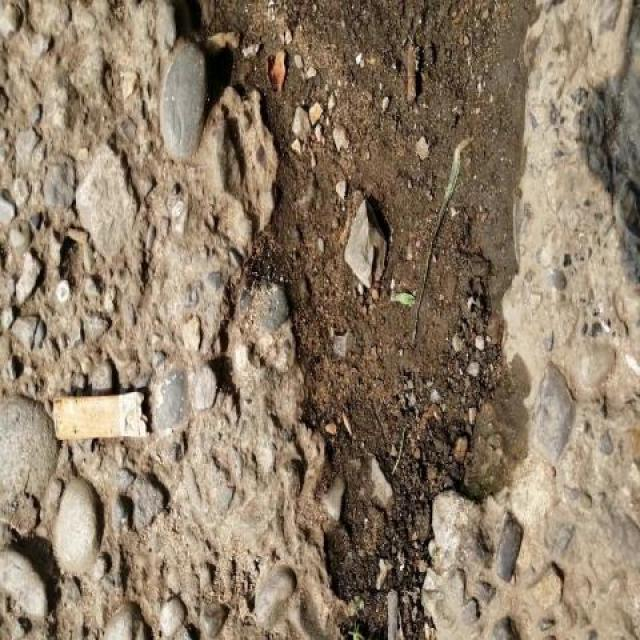non-organic waste: (44, 386, 157, 446)
